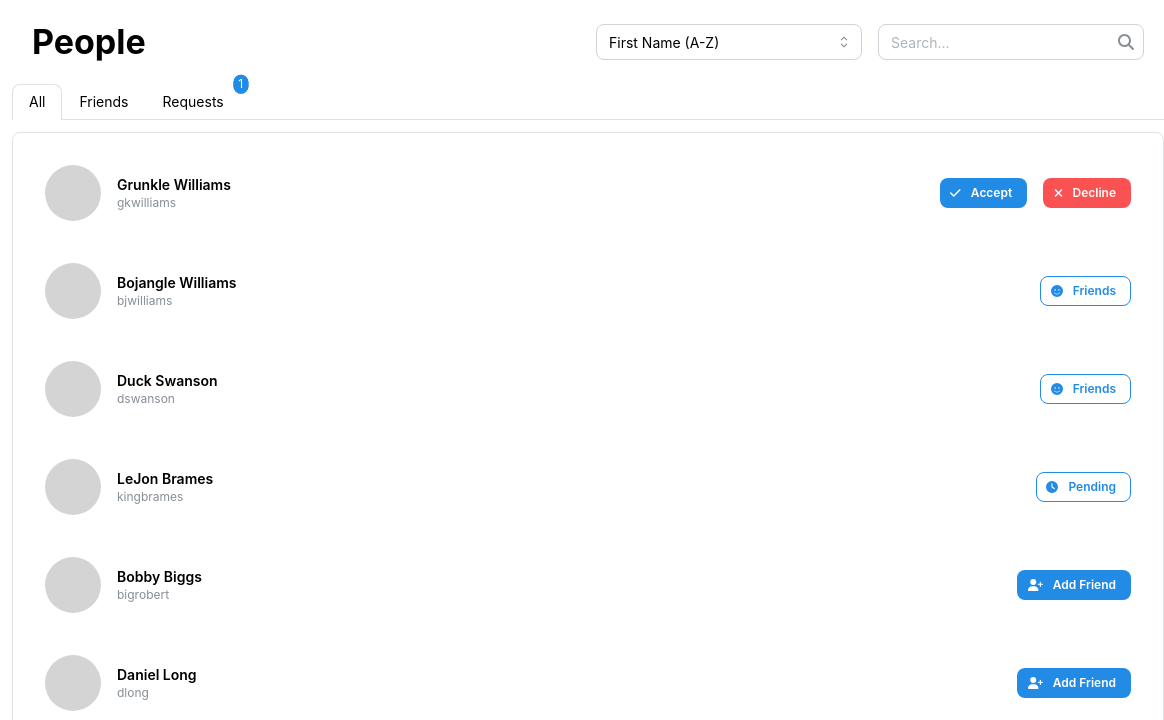
it: People Page › Clicks the add friend button and sends friend requests correctly
Click the 1st button with test id "add-friend-btn": (1074, 585) x1=1017 y1=570 x2=1131 y2=600
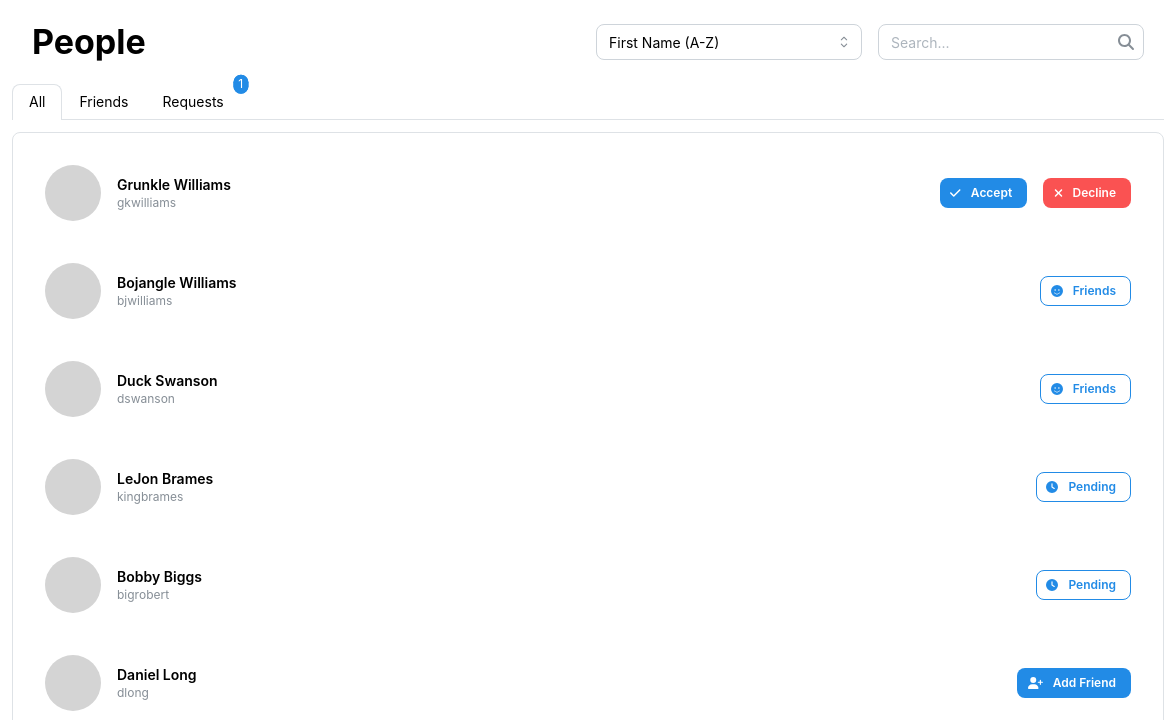
expect the number of buttons with test id "outgoing-request-btn" is 2: met, box x1=1036 y1=472 x2=1131 y2=502; x1=1036 y1=570 x2=1131 y2=600
